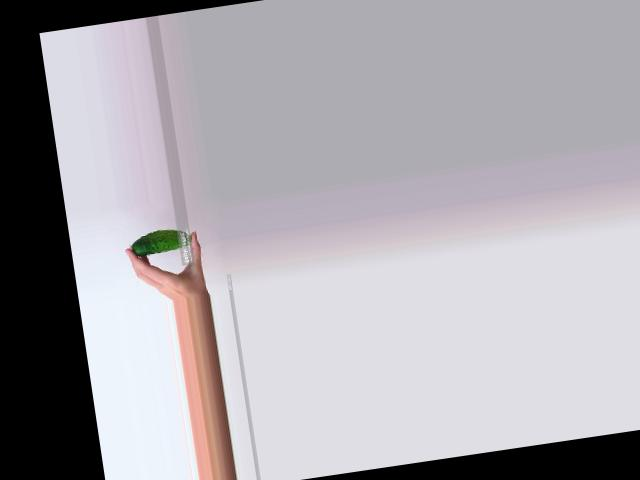cucumber: (129, 225, 193, 256)
